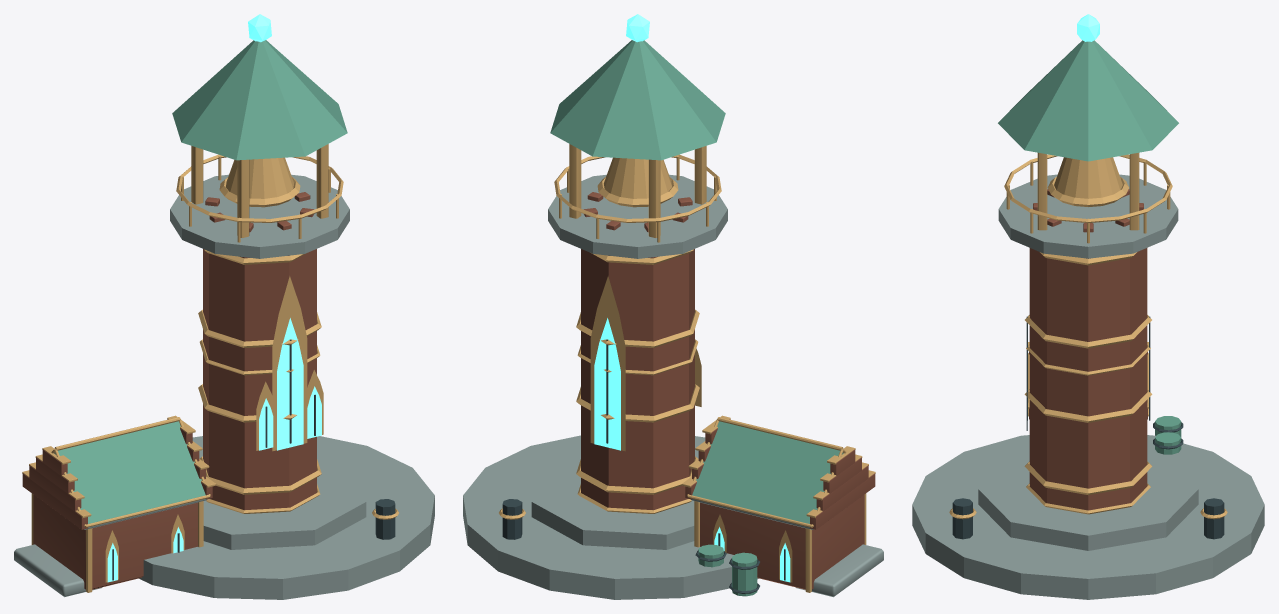
File: site-beacon.glb
3 renders of one model, left to right at view 1: azimuth 30°, elevation 25°; view 2: azimuth 150°, elevation 25°; view 3: azimuth 270°, elevation 25°, orthographic.
Parts seen in each view (by area): view 1: site-beacon / Masonry | weathered Baltic limestone, site-beacon / Masonry | deep Hanseatic brick, site-beacon / Copper | steep verdigris roof, site-beacon / Fittings | worn maritime brass, site-beacon / Lamp | turbine mint, site-beacon / Hull | charcoal iron; view 2: site-beacon / Masonry | weathered Baltic limestone, site-beacon / Masonry | deep Hanseatic brick, site-beacon / Copper | steep verdigris roof, site-beacon / Fittings | worn maritime brass, site-beacon / Lamp | turbine mint, site-beacon / Hull | charcoal iron; view 3: site-beacon / Masonry | weathered Baltic limestone, site-beacon / Masonry | deep Hanseatic brick, site-beacon / Copper | steep verdigris roof, site-beacon / Fittings | worn maritime brass, site-beacon / Hull | charcoal iron, site-beacon / Lamp | turbine mint.
Part boxes in pixels (x1,y1,x2,y2): site-beacon / Masonry | weathered Baltic limestone: (14,174,434,599); site-beacon / Masonry | deep Hanseatic brick: (22,192,316,589); site-beacon / Copper | steep verdigris roof: (54,40,347,523); site-beacon / Fittings | worn maritime brass: (22,144,398,592); site-beacon / Lamp | turbine mint: (107,14,321,582); site-beacon / Hull | charcoal iron: (112,339,395,580); site-beacon / Masonry | weathered Baltic limestone: (463,174,883,599); site-beacon / Masonry | deep Hanseatic brick: (581,192,875,589); site-beacon / Copper | steep verdigris roof: (550,40,843,596); site-beacon / Fittings | worn maritime brass: (499,144,875,592); site-beacon / Lamp | turbine mint: (594,14,790,582); site-beacon / Hull | charcoal iron: (502,339,785,593); site-beacon / Masonry | weathered Baltic limestone: (912,174,1264,599); site-beacon / Masonry | deep Hanseatic brick: (1029,189,1147,510); site-beacon / Copper | steep verdigris roof: (998,40,1181,454); site-beacon / Fittings | worn maritime brass: (949,152,1227,519); site-beacon / Hull | charcoal iron: (952,316,1224,539); site-beacon / Lamp | turbine mint: (1077,14,1099,41).
Bounding box in the file's own units: 8.95 × 11.69 × 7.3.
